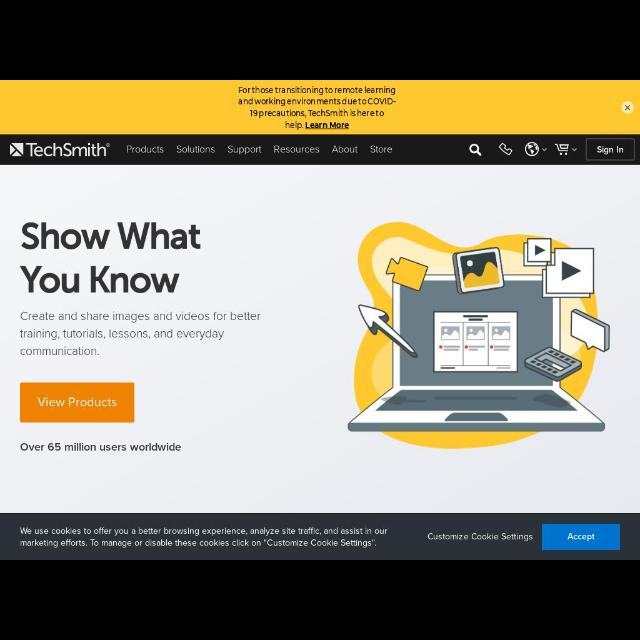backgroundimage: (2, 166, 640, 512)
icon: (498, 143, 512, 155), (470, 144, 482, 156), (526, 144, 538, 156), (556, 144, 568, 154), (572, 146, 578, 152), (542, 146, 546, 152)
iframe: (2, 82, 640, 134), (1, 514, 637, 558)
image: (10, 143, 110, 157)
spinner: (525, 142, 547, 156), (554, 144, 576, 156)
text: (22, 222, 200, 294), (21, 310, 261, 356), (21, 443, 181, 452), (274, 146, 320, 154), (177, 146, 215, 154), (127, 146, 163, 154), (228, 146, 262, 154), (371, 145, 393, 153), (333, 147, 359, 153)
textbutton: (20, 382, 132, 422), (586, 140, 636, 160)
toolbar: (1, 136, 639, 164)
